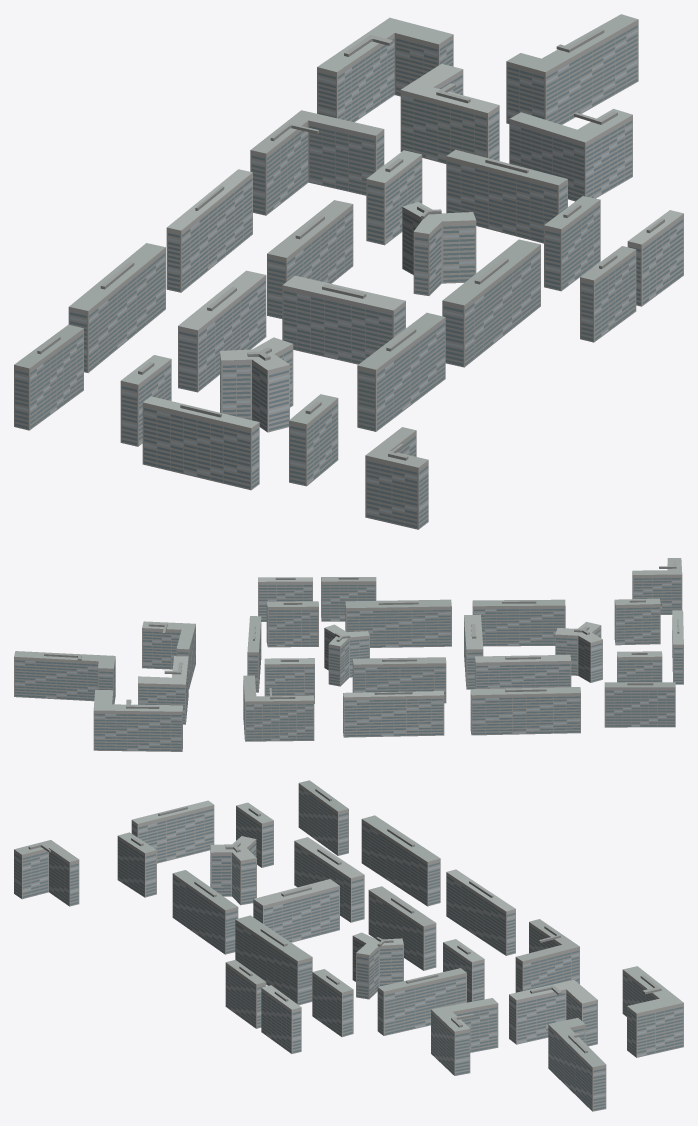
File: apt-a13824005.glb
The picture shows the model from 3 angles, top to bottom: view 1: azimuth 30°, elevation 25°; view 2: azimuth 150°, elevation 25°; view 3: azimuth 270°, elevation 25°; orthographic projection. The views are drawn at different scales.
Visible parts, largest first — view 1: apt-a13824005; view 2: apt-a13824005; view 3: apt-a13824005.
Part boxes in pixels (bbox=[...]): apt-a13824005: bbox=[14, 14, 683, 529]; apt-a13824005: bbox=[14, 558, 683, 751]; apt-a13824005: bbox=[14, 780, 683, 1111].
Size of the model in its own units: 591 by 44.62 by 583.
